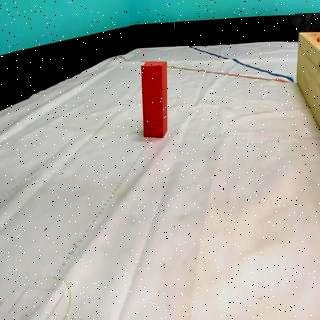redbox: (142, 61, 166, 138)
